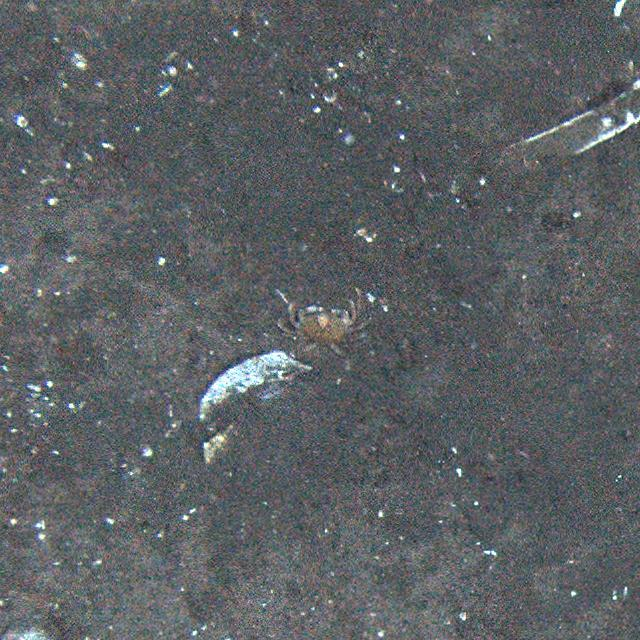crab: (277, 298, 367, 360)
